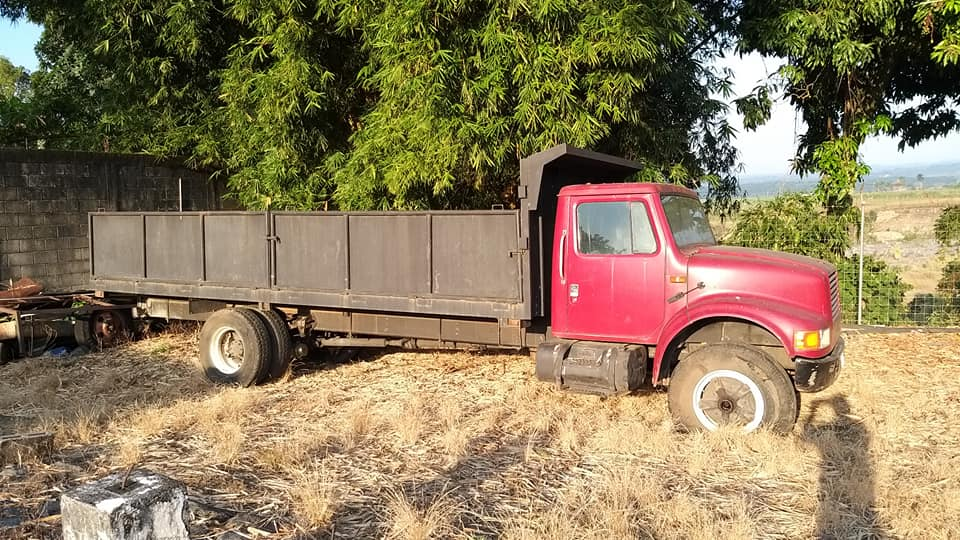camion: (83, 143, 855, 438)
